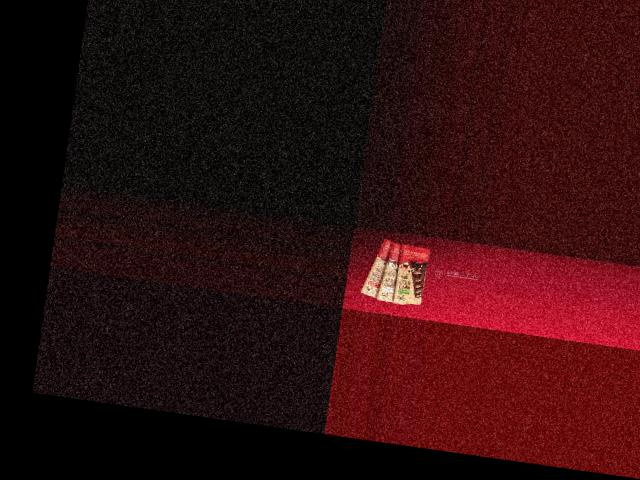chocolate: (359, 233, 399, 303)
